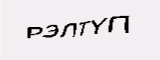К: (40, 19, 52, 36)
Р: (62, 18, 73, 37)
С: (73, 19, 88, 42)
У: (84, 19, 106, 45)
Х: (55, 18, 65, 35)
